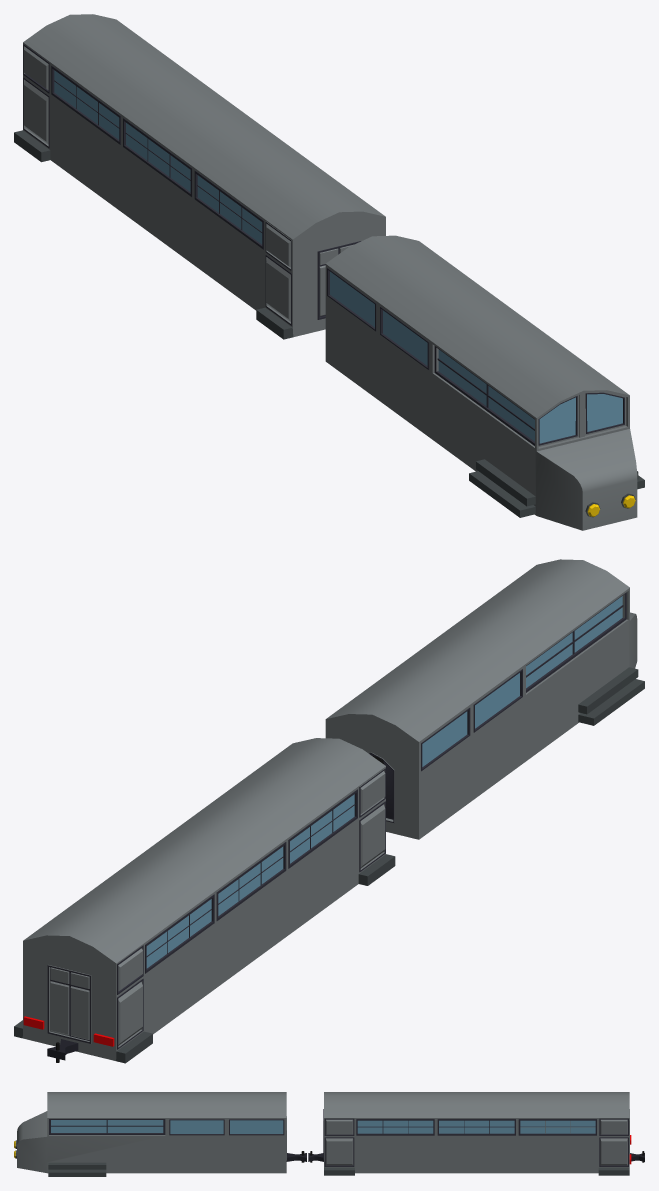
File: train.fbx
3 renders of one model, top to bottom at view 1: azimuth 30°, elevation 25°; view 2: azimuth 150°, elevation 25°; view 3: azimuth 270°, elevation 25°, orthographic. The views are drawn at different scales.
Parts seen in each view (by area): view 1: train-engine (cars are children); view 2: train-engine (cars are children); view 3: train-engine (cars are children).
Part boxes in pixels (bbox=[...]): train-engine (cars are children): bbox=[14, 14, 644, 530]; train-engine (cars are children): bbox=[14, 559, 644, 1063]; train-engine (cars are children): bbox=[14, 1092, 644, 1176].
Size of the model in its own units: 390 by 350 by 3009.
Materials: 1 (1 with a texture image).
